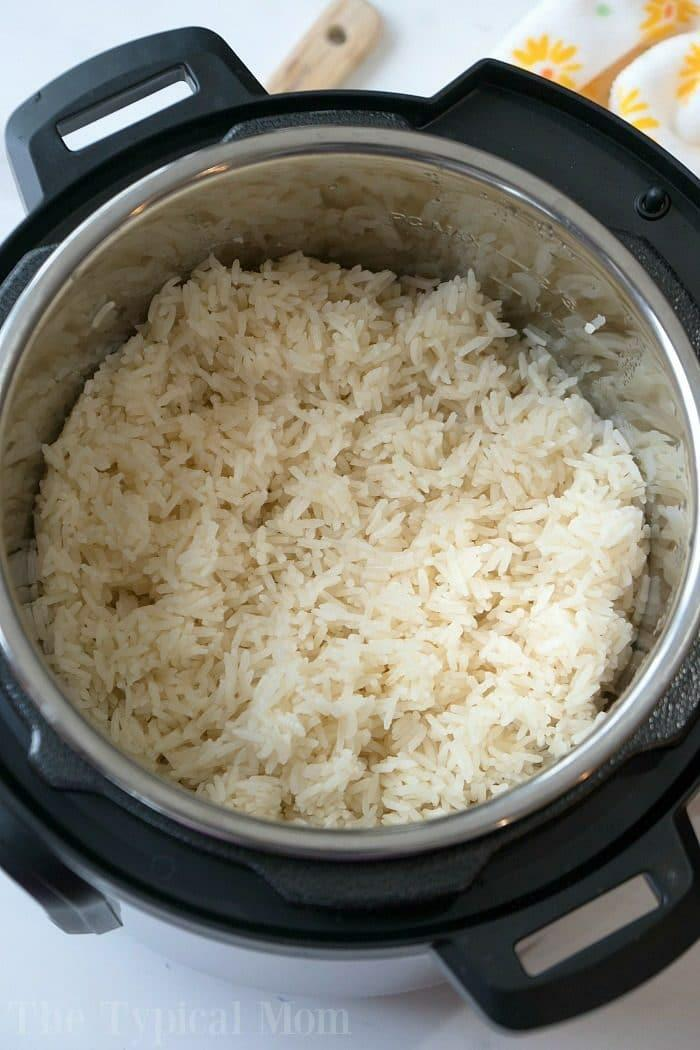WhiteRice: (41, 252, 650, 822)
